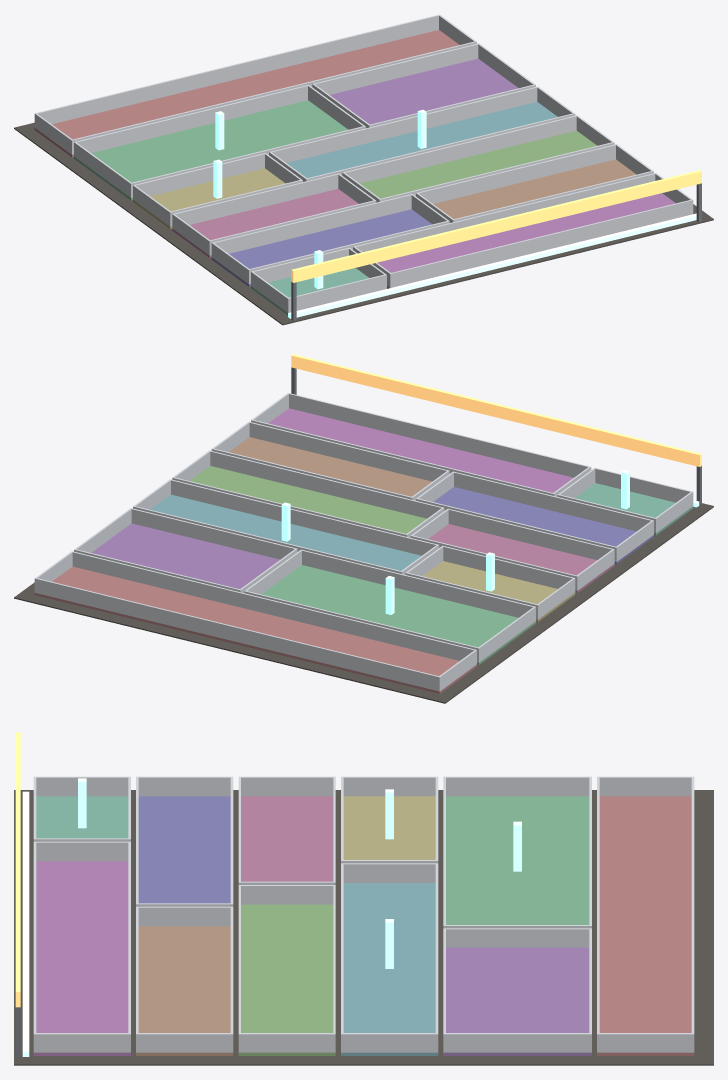
File: hall-masonry-restore.glb
3 renders of one model, top to bottom at view 1: azimuth 30°, elevation 25°; view 2: azimuth 150°, elevation 25°; view 3: azimuth 270°, elevation 25°, orthographic. The views are drawn at different scales.
Parts seen in each view (by area): view 1: Masonry Restoration; view 2: Masonry Restoration; view 3: Masonry Restoration.
Part boxes in pixels (x1=…): Masonry Restoration: x1=14, y1=14, x2=713, y2=325; Masonry Restoration: x1=14, y1=354, x2=713, y2=703; Masonry Restoration: x1=14, y1=732, x2=713, y2=1065.
Size of the model in its own units: 38 by 4.3 by 41.
